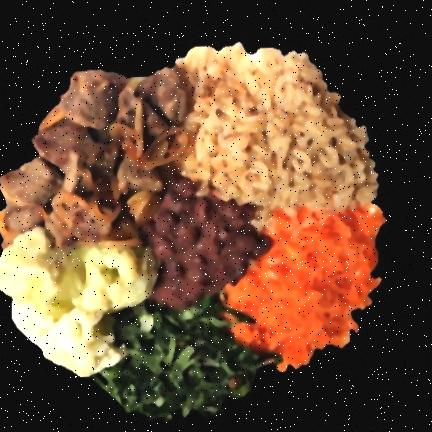beans: (142, 177, 272, 307)
carrot: (227, 203, 384, 370)
cauliflower: (0, 225, 158, 376)
meat: (0, 67, 188, 247)
rice: (177, 43, 378, 229)
salad: (92, 294, 279, 418)
